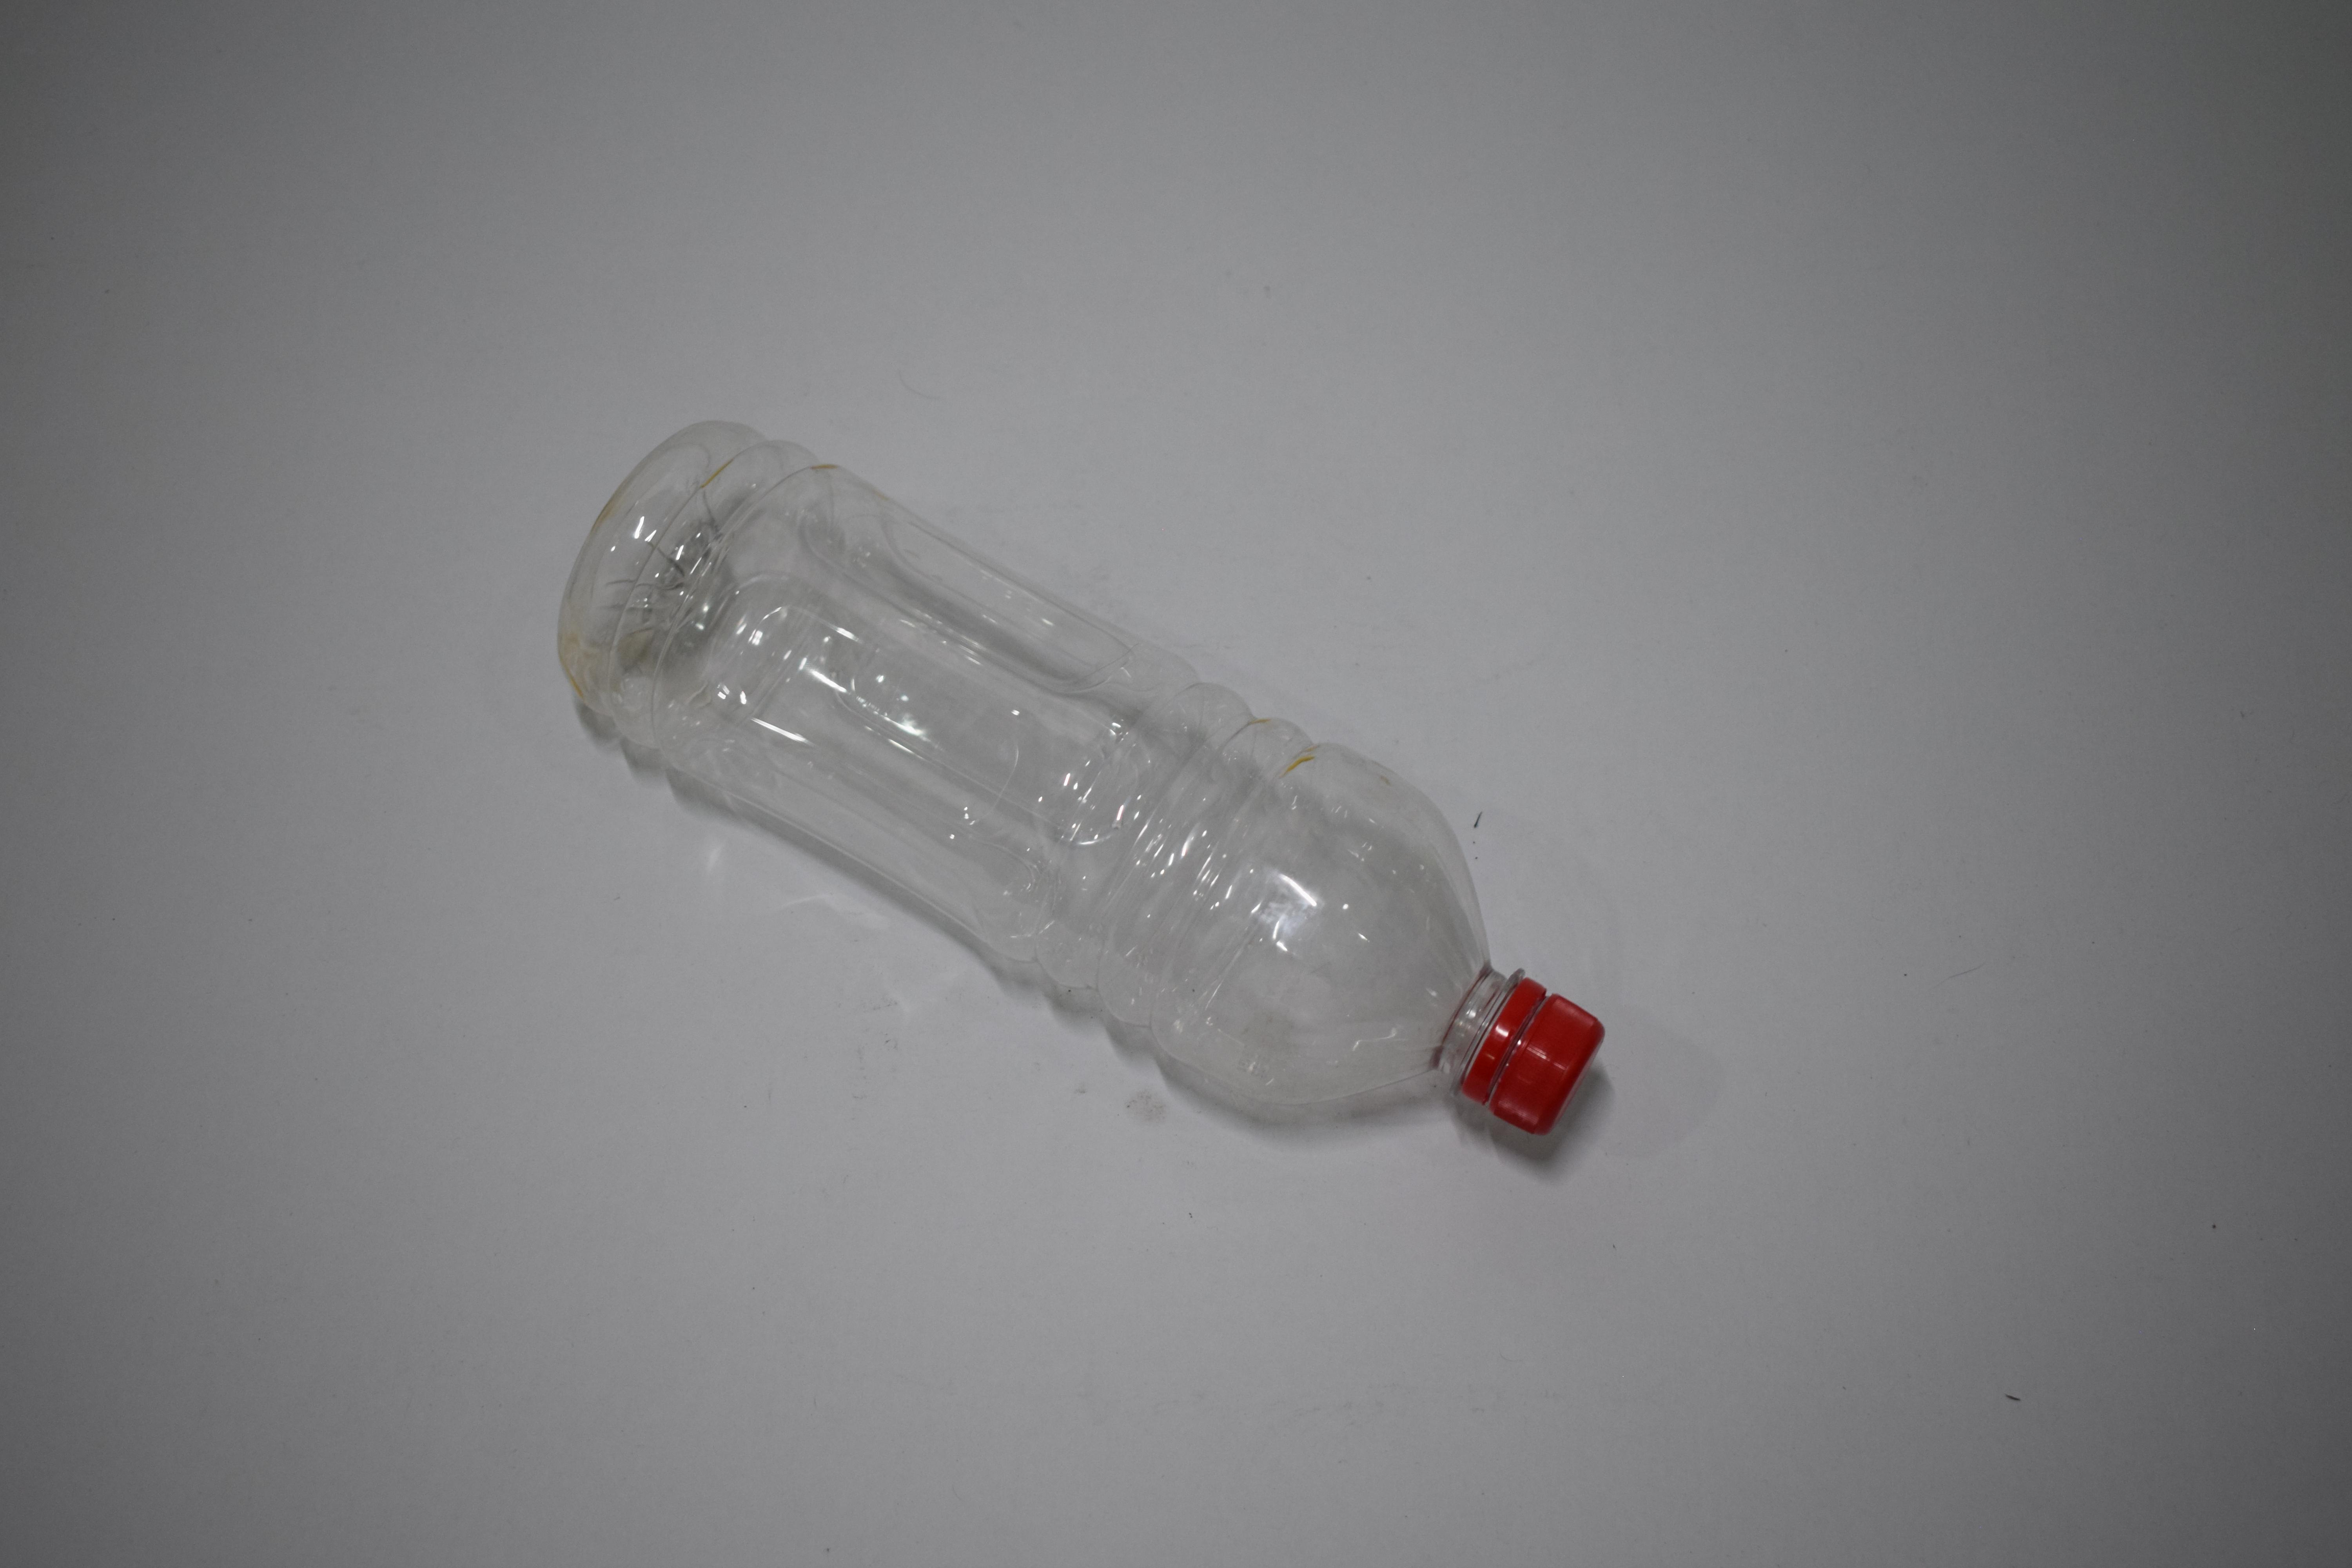bottle: (445, 418, 1480, 1139)
